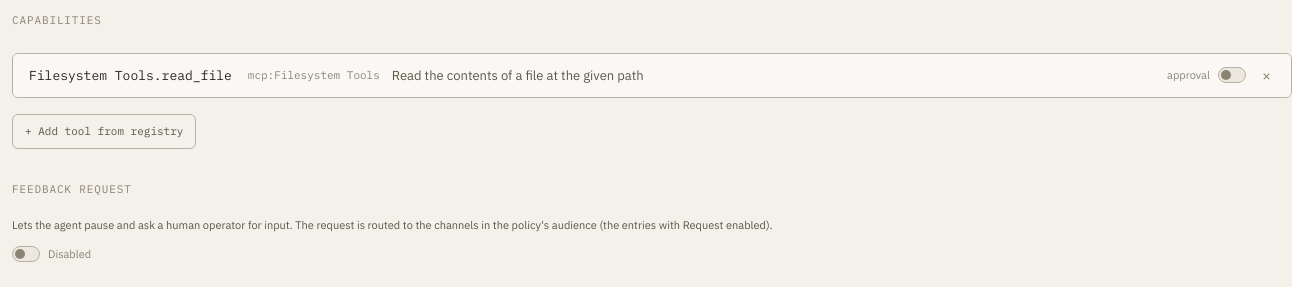
Scenario: CapabilitiesSection — tool picker remove › clicking the remove button removes the tool from the list
Expected: the text "Filesystem Tools.read_file" is shown, left=29, top=66, right=232, bottom=85
Note: Click the remove button
Step 1. Click the button named "remove filesystem tools.read_file" → {"x": 1266, "y": 75}, box left=1258, top=68, right=1275, bottom=83
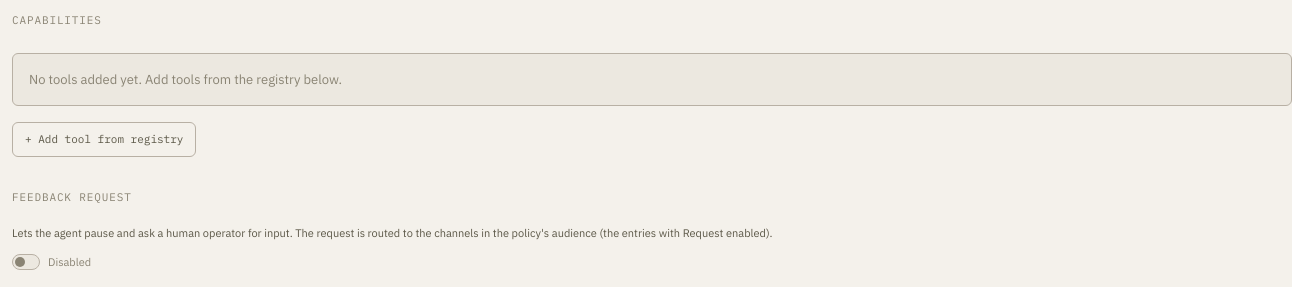
Expected: the text "Filesystem Tools.read_file" is gone
Expected: the text "No tools added yet. Add tools from the registry below." is shown, left=12, top=52, right=1291, bottom=106
